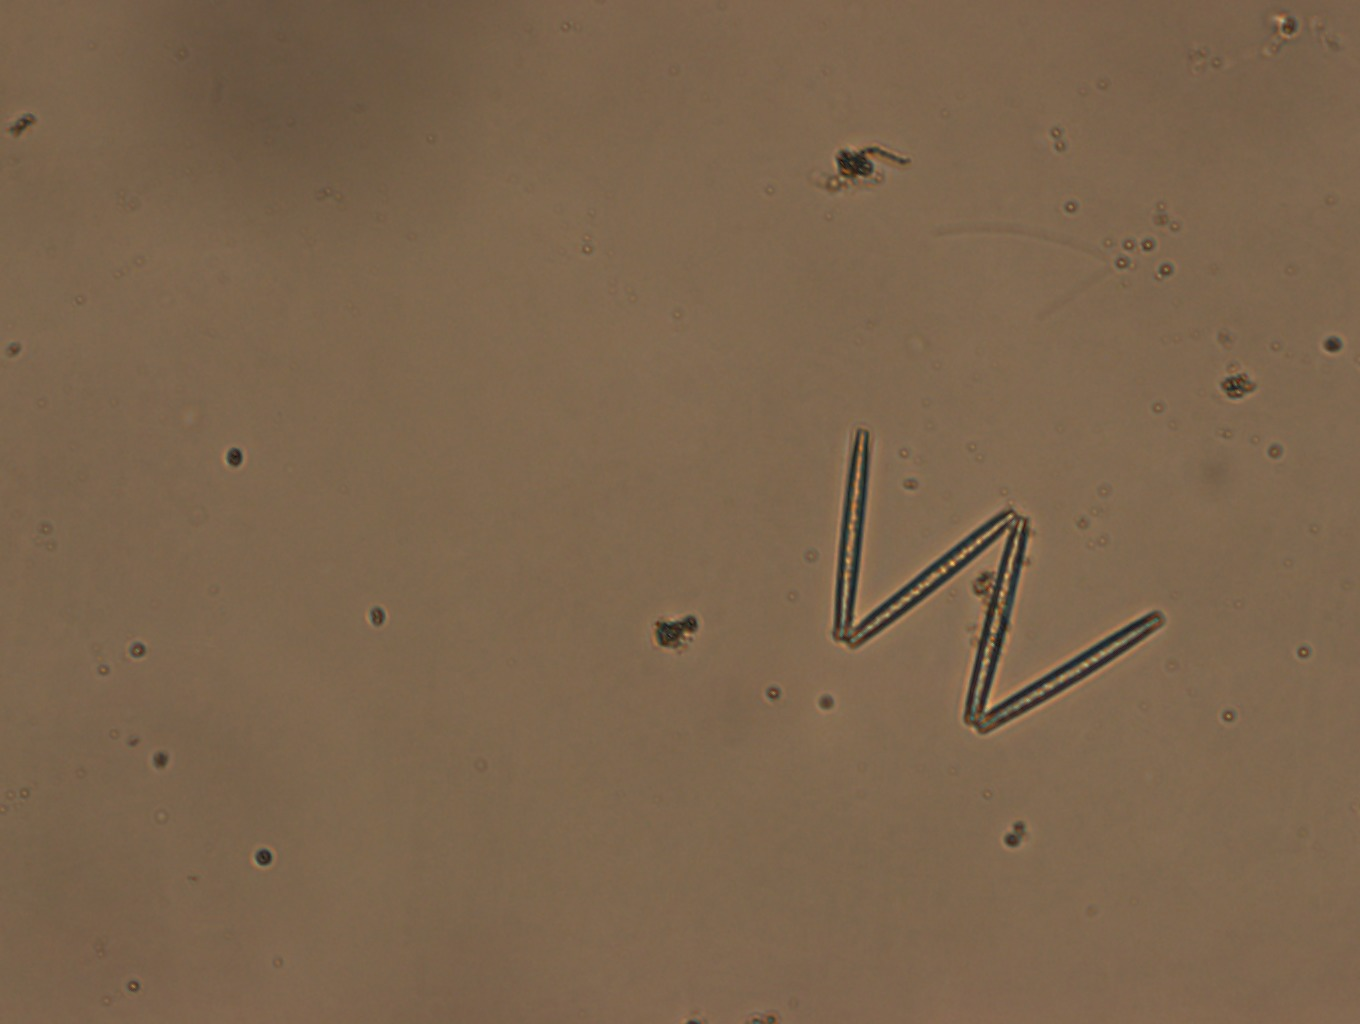thalassionema nitzschioides: (826, 423, 1166, 734)
